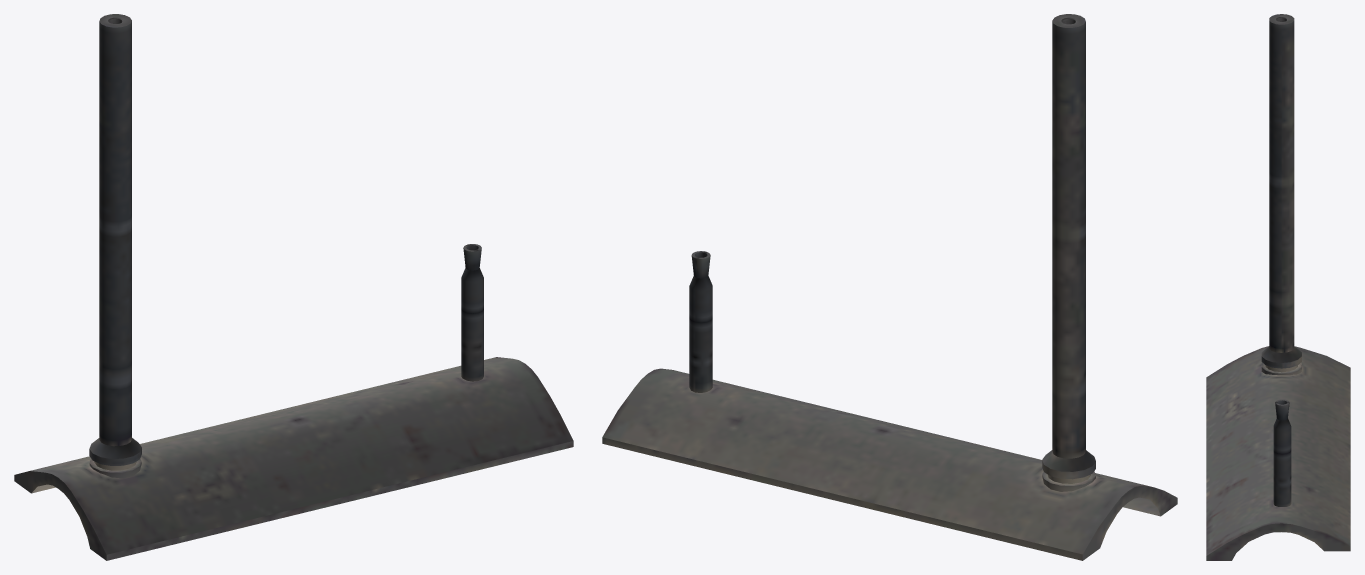
File: Gun_04.glb
The picture shows the model from 3 angles, left to right: view 1: azimuth 30°, elevation 25°; view 2: azimuth 150°, elevation 25°; view 3: azimuth 270°, elevation 25°; orthographic projection. The views are drawn at different scales.
Parts seen in each view (by area): view 1: set_0_group_0; view 2: set_0_group_0; view 3: set_0_group_0.
Boxes of the visible parts, x1,y1,x2,y2 form: set_0_group_0: (14,14,573,560); set_0_group_0: (602,14,1177,560); set_0_group_0: (1206,14,1350,560).
Size of the model in its own units: 0.8098 by 0.8133 by 0.2771.
1 material, 1 textured.
